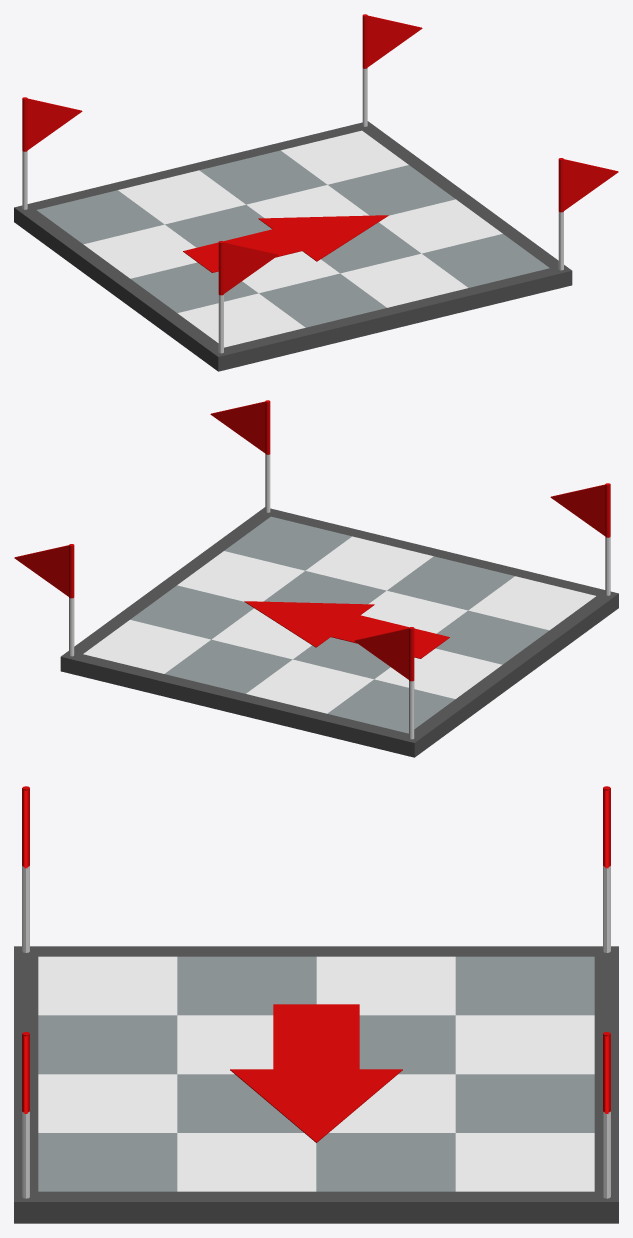
File: Check Point2.fbx
The picture shows the model from 3 angles, top to bottom: view 1: azimuth 30°, elevation 25°; view 2: azimuth 150°, elevation 25°; view 3: azimuth 270°, elevation 25°; orthographic projection. The views are drawn at different scales.
Visible parts, largest first — view 1: check_point; view 2: check_point; view 3: check_point.
Part boxes in pixels (x1,y1,x2,y2): check_point: [14, 14, 618, 371]; check_point: [14, 400, 618, 757]; check_point: [14, 786, 618, 1223].
Size of the model in its own units: 4 by 1.18 by 3.5.
